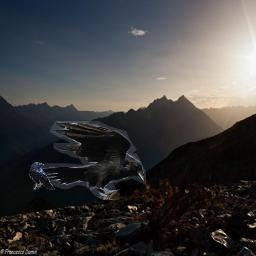Crow: (37, 121, 146, 200), (29, 162, 55, 190)
